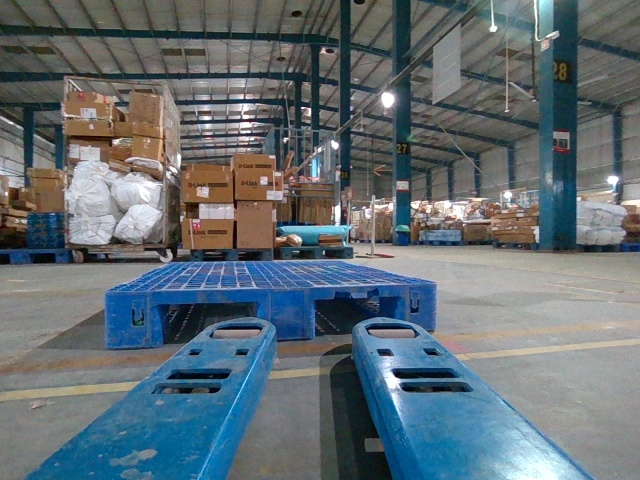block: (104, 285, 161, 348), (255, 286, 316, 339), (400, 282, 438, 335)
front: (105, 280, 439, 347)
hole pallet: (154, 295, 261, 348), (311, 292, 404, 341)
